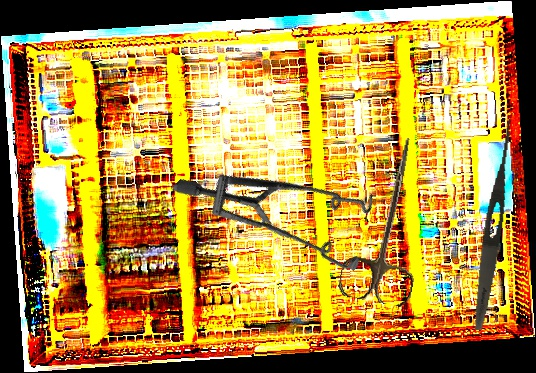Dressing Forceps: (469, 117, 518, 332)
Iris Scissors: (336, 130, 441, 309)
Speculum: (170, 90, 402, 326)
